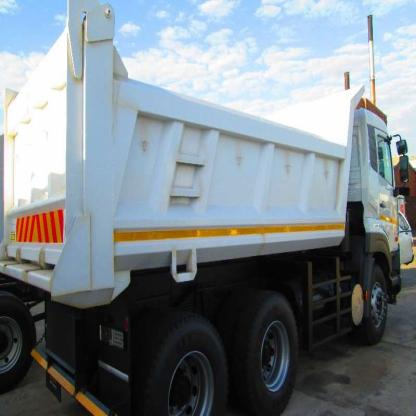dump_truck: (7, 3, 414, 415)
